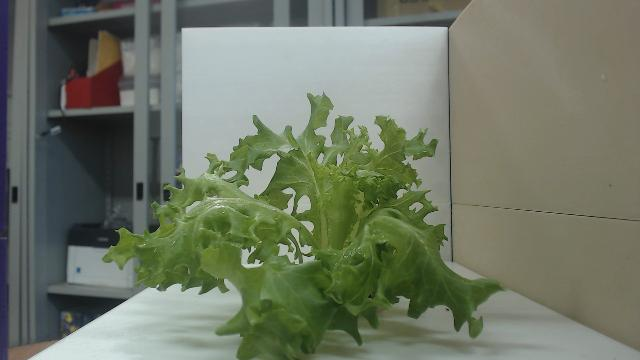Harvest Stage: (100, 90, 510, 356)
